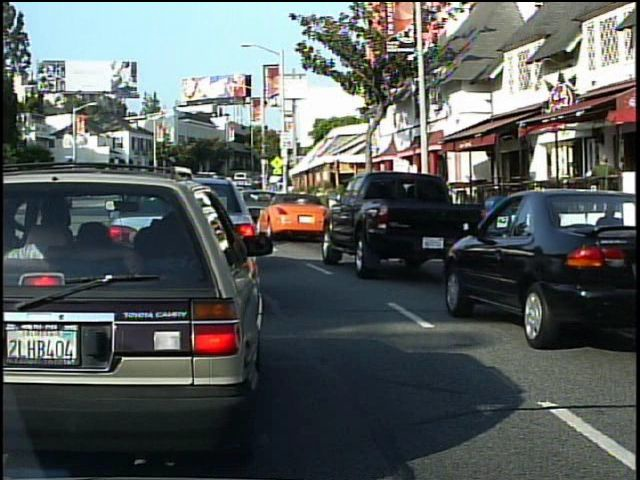person: (588, 150, 622, 232)
